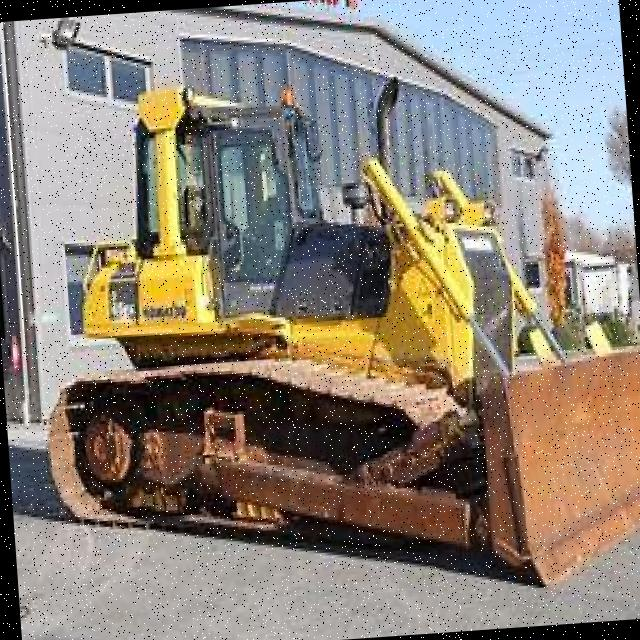Bulldozer: (1, 36, 640, 627)
